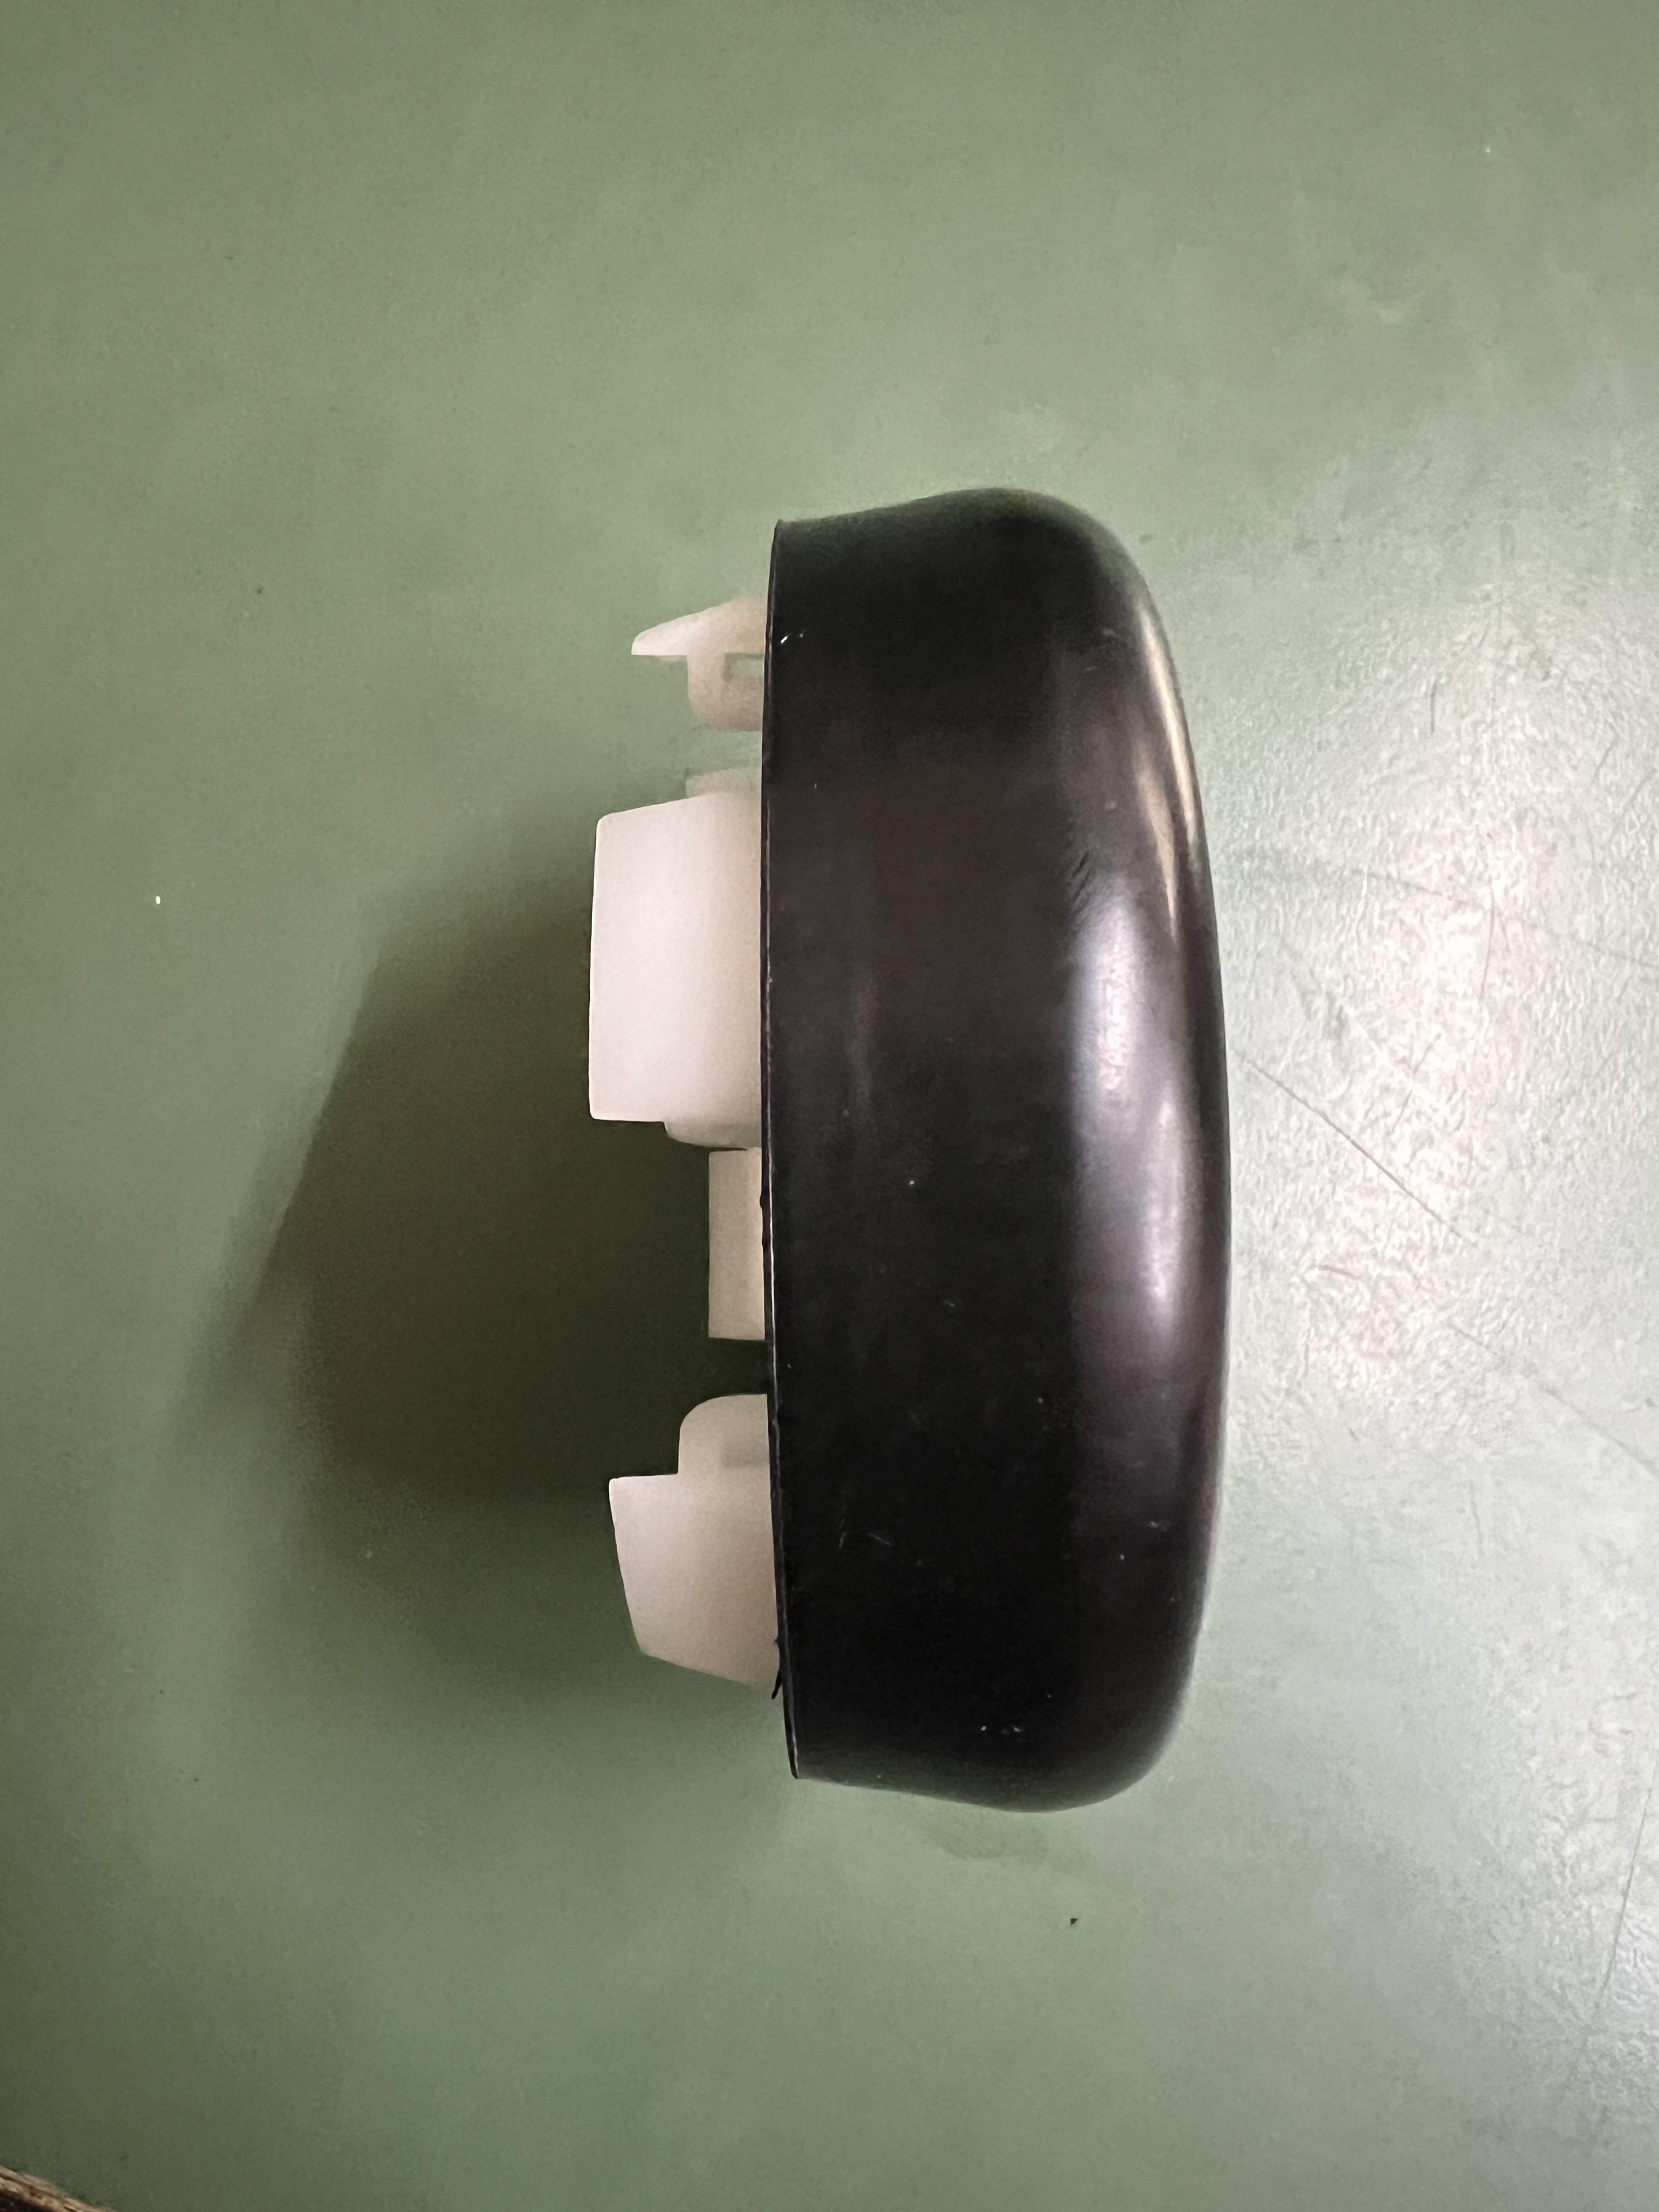lever: (525, 503, 1276, 1824)
